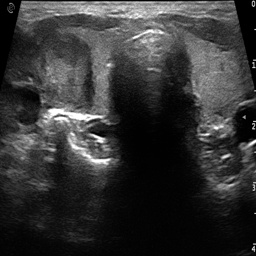mass: (25, 33, 92, 116)
